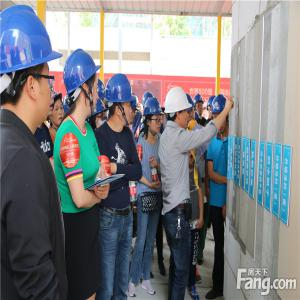blue: (1, 4, 56, 132), (65, 49, 100, 119), (106, 75, 133, 129), (143, 98, 162, 134), (212, 97, 229, 135), (49, 91, 65, 131), (185, 95, 196, 125), (195, 93, 205, 117)
white: (163, 86, 191, 132)
